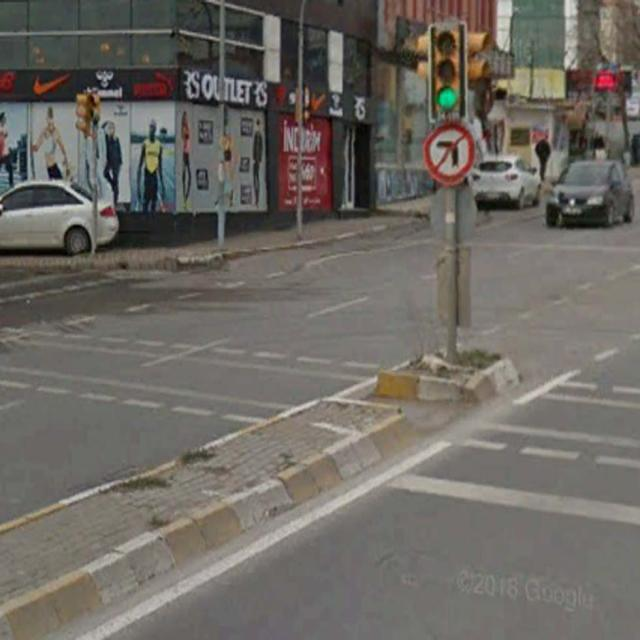soladonulmez: (422, 124, 474, 184)
yesil: (429, 22, 466, 121)
